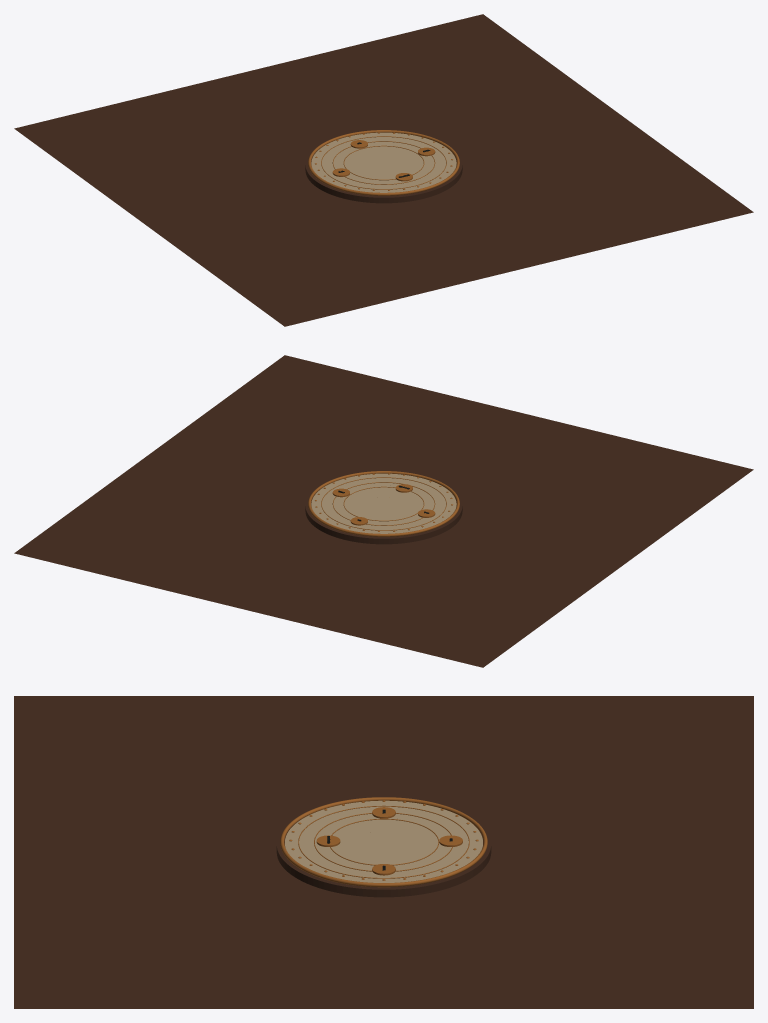
The model's file is trust-formation-animation-v1.glb.
3 views of the same model, one above another, from view 1: azimuth 30°, elevation 25°; view 2: azimuth 150°, elevation 25°; view 3: azimuth 270°, elevation 25° (orthographic). The views are drawn at different scales.
Parts seen in each view (by area): view 1: RB_CountingRoomTable, RB_TrustHero_BondMedallion, RB_TrustHero_Base, RB_TrustHero_BrassRim; view 2: RB_CountingRoomTable, RB_TrustHero_BondMedallion, RB_TrustHero_Base, RB_TrustHero_BrassRim; view 3: RB_CountingRoomTable, RB_TrustHero_BondMedallion, RB_TrustHero_Base, RB_TrustHero_BrassRim, RB_EngravingRing_3.46.
Part boxes in pixels (left/top/right/bottom): RB_CountingRoomTable: left=14, top=14, right=753, bottom=326; RB_TrustHero_BondMedallion: left=311, top=132, right=456, bottom=192; RB_TrustHero_Base: left=305, top=148, right=462, bottom=203; RB_TrustHero_BrassRim: left=308, top=130, right=459, bottom=195; RB_CountingRoomTable: left=14, top=355, right=753, bottom=667; RB_TrustHero_BondMedallion: left=311, top=473, right=456, bottom=533; RB_TrustHero_Base: left=305, top=489, right=462, bottom=544; RB_TrustHero_BrassRim: left=308, top=471, right=459, bottom=536; RB_CountingRoomTable: left=14, top=696, right=753, bottom=1008; RB_TrustHero_BondMedallion: left=285, top=800, right=482, bottom=882; RB_TrustHero_Base: left=276, top=821, right=491, bottom=897; RB_TrustHero_BrassRim: left=280, top=797, right=487, bottom=887; RB_EngravingRing_3.46: left=298, top=805, right=469, bottom=878.
Bounding box in the file's own units: 30 × 2.55 × 30.
